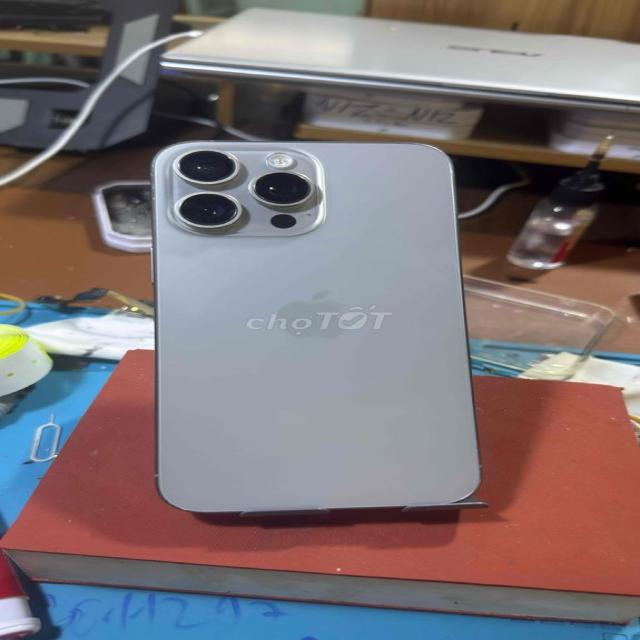gen_14: (154, 144, 491, 519)
